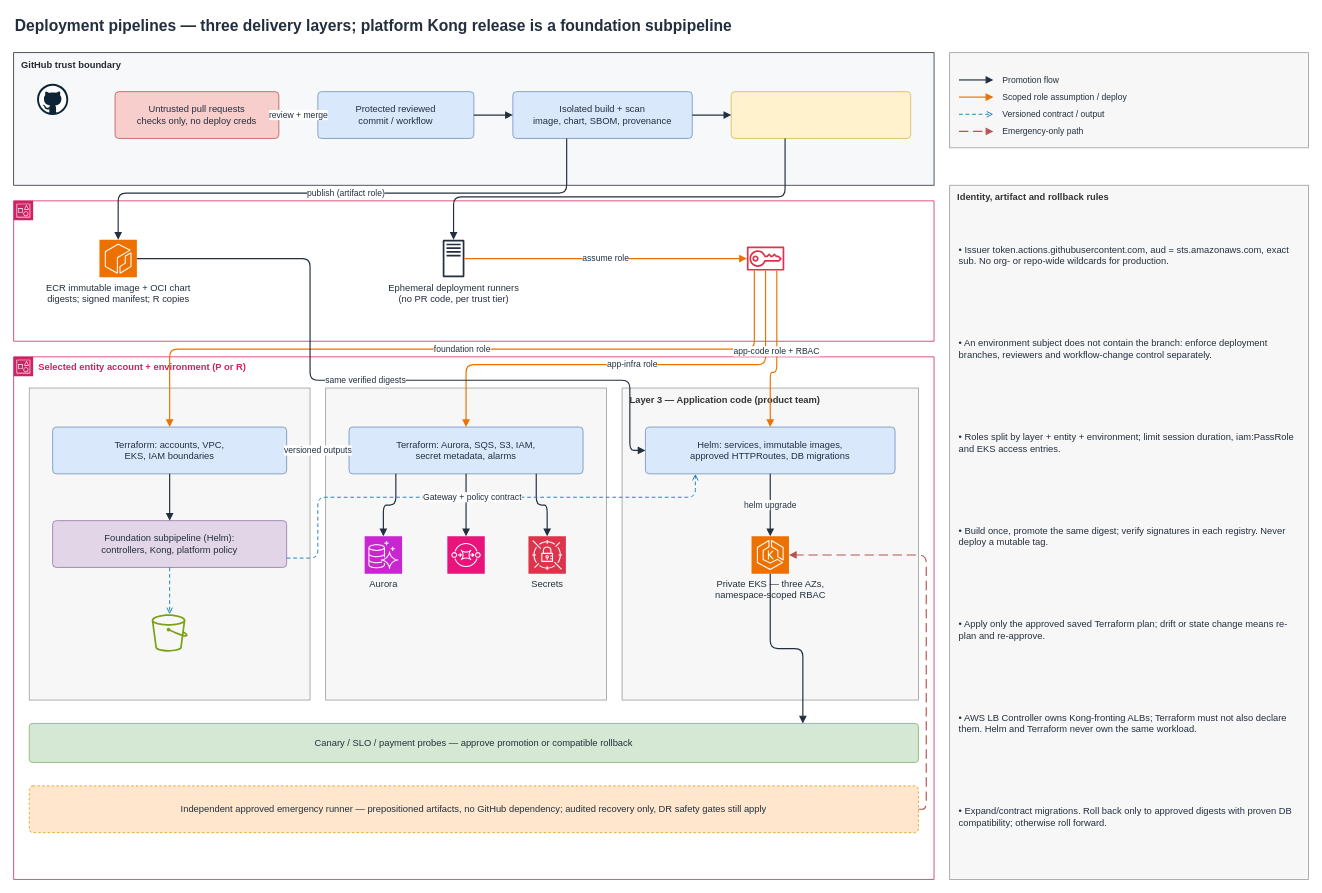
Some shapes in this 1322 by 893 pixel diagram are drawn without their labels. The shapes that lost their labels are listed below. From the top down, each one's box as (x1, y1, x2, y2) in pixels, then its label:
(36, 83, 68, 115): GitHub
(730, 91, 911, 138): Protected environment approval (branches, reviewers)
(949, 52, 1308, 148): Legend
(13, 200, 934, 341): Platform tooling account — connected deployment trust boundary
(746, 239, 784, 277): AWS STS: OIDC exact aud/sub layer + entity + env roles
(28, 387, 310, 700): Layer 1 — Foundation (platform team)
(325, 387, 606, 700): Layer 2 — Application infrastructure (product team)
(447, 535, 485, 574): SQS
(151, 614, 188, 651): S3 Terraform state — versioning, SSE-KMS, native lockfile
